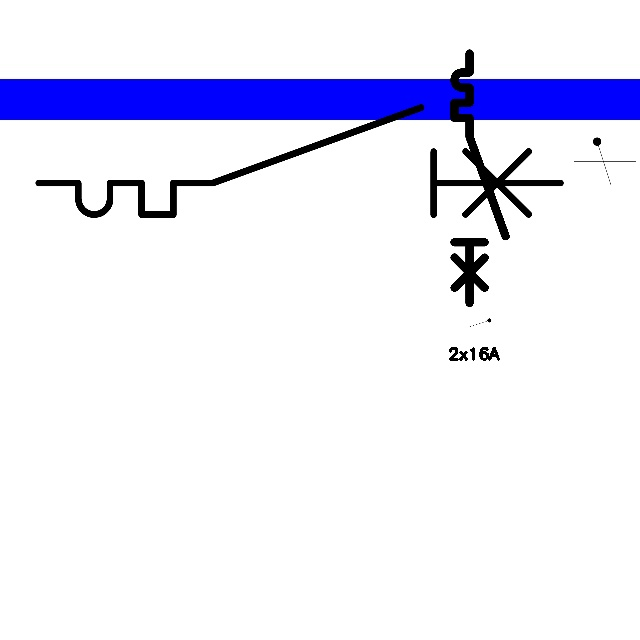interruptor_termomagnetico: (25, 94, 574, 228), (448, 47, 512, 309)
